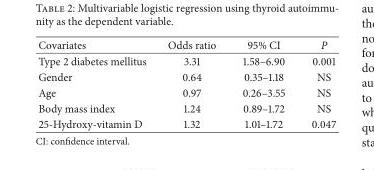table: (37, 36, 335, 131)
table column: (37, 36, 156, 131), (156, 36, 228, 131), (228, 36, 297, 131), (297, 36, 335, 131)
table column header: (37, 36, 335, 52)
table row: (37, 36, 335, 52), (37, 52, 335, 68), (37, 68, 335, 84), (37, 99, 335, 115), (37, 115, 335, 131), (37, 84, 335, 99)
